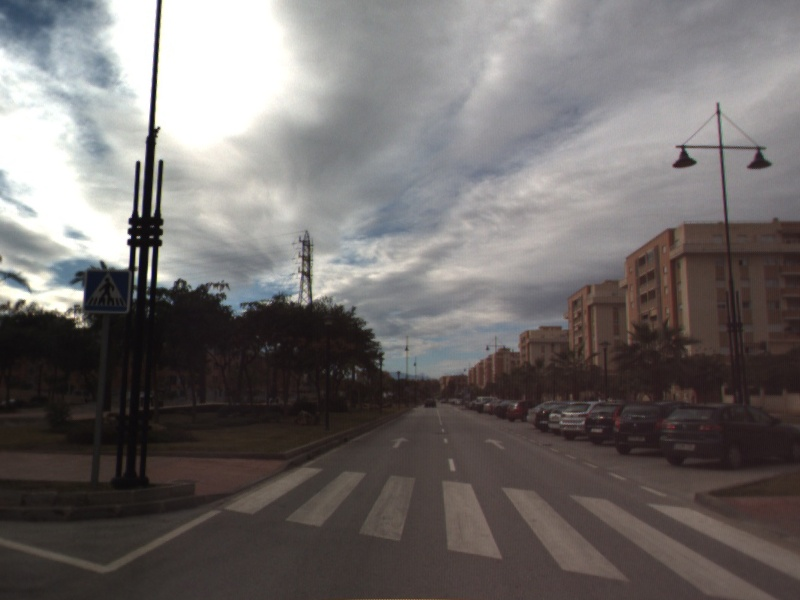STRAIGHT: (389, 435, 412, 450), (483, 437, 507, 451)
